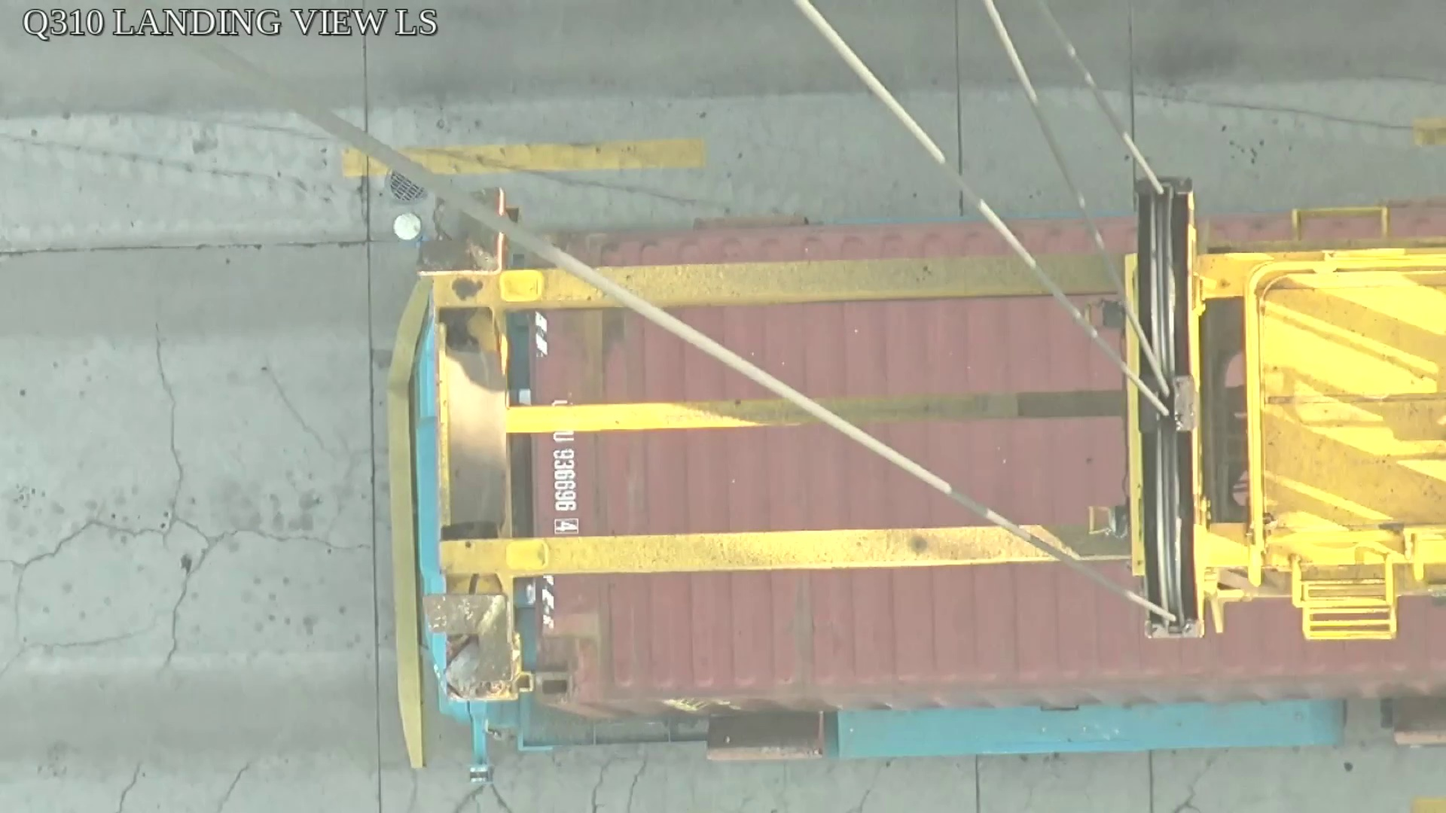aa: (1128, 172, 1212, 643)
